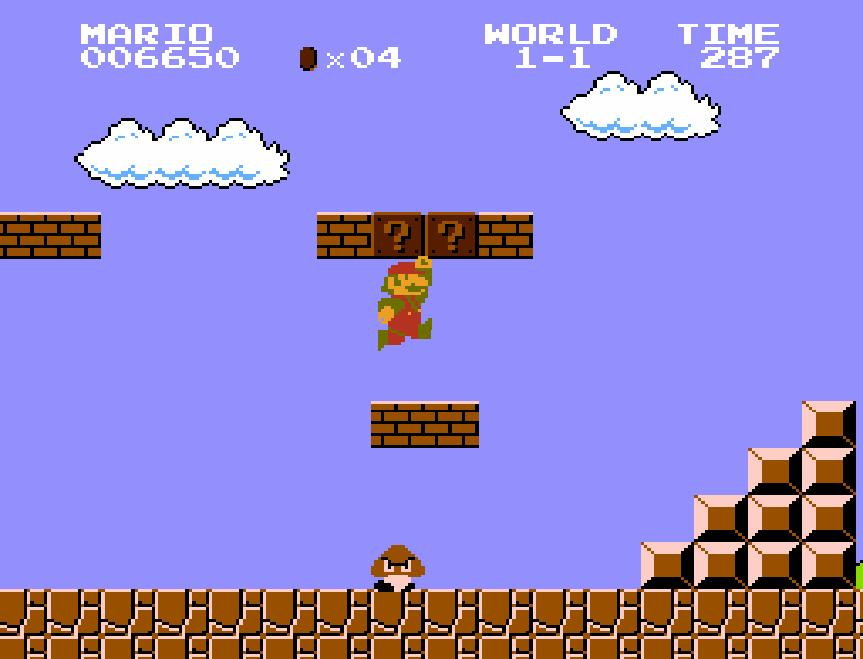big_mario: (376, 254, 434, 352)
